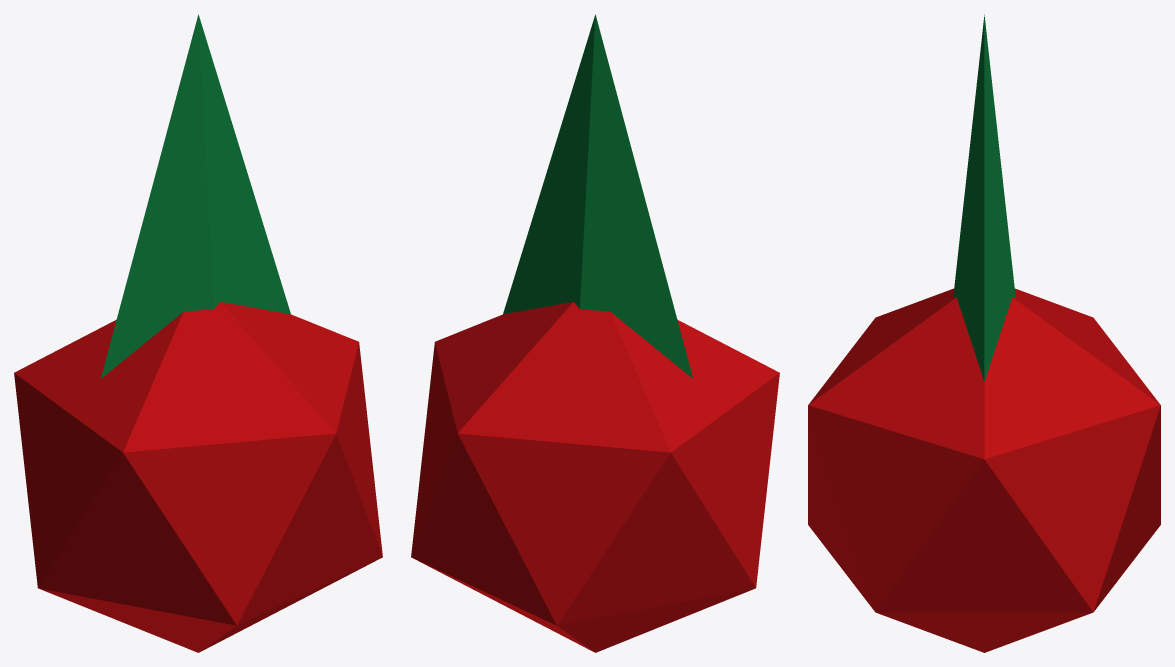
File: Item_OR_Herb_04.glb
The picture shows the model from 3 angles, left to right: view 1: azimuth 30°, elevation 25°; view 2: azimuth 150°, elevation 25°; view 3: azimuth 270°, elevation 25°; orthographic projection.
Parts seen in each view (by area): view 1: Item_OR_Herb_04; view 2: Item_OR_Herb_04; view 3: Item_OR_Herb_04.
Part boxes in pixels (x1=…): Item_OR_Herb_04: x1=14, y1=14, x2=382, y2=652; Item_OR_Herb_04: x1=411, y1=14, x2=779, y2=652; Item_OR_Herb_04: x1=808, y1=14, x2=1160, y2=652.
Size of the model in its own units: 0.0894 by 0.17 by 0.0851.
